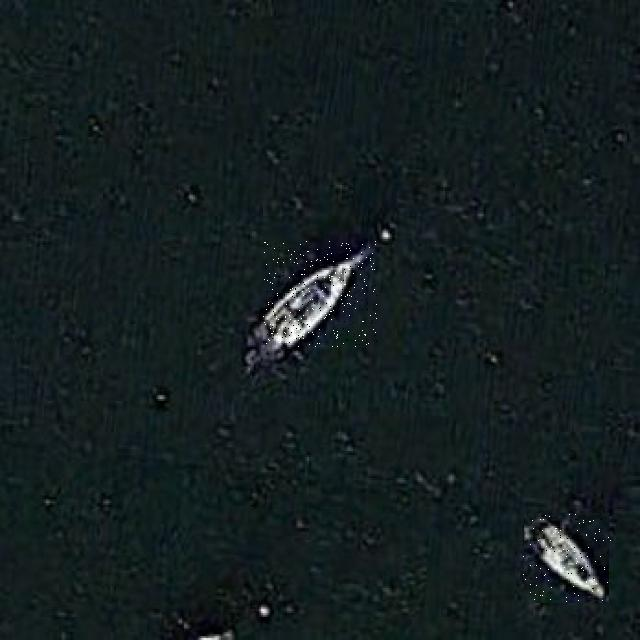boat: (263, 241, 377, 347), (524, 514, 612, 602)
